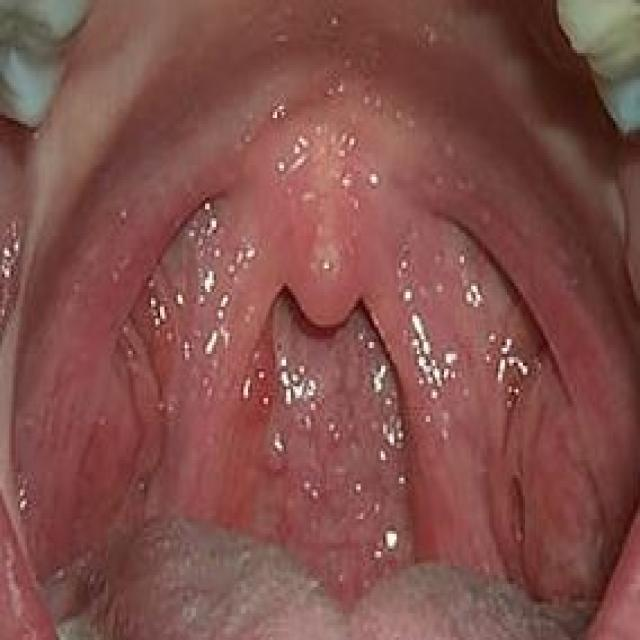Non Pharyngitis: (18, 263, 194, 540), (475, 338, 640, 624)
